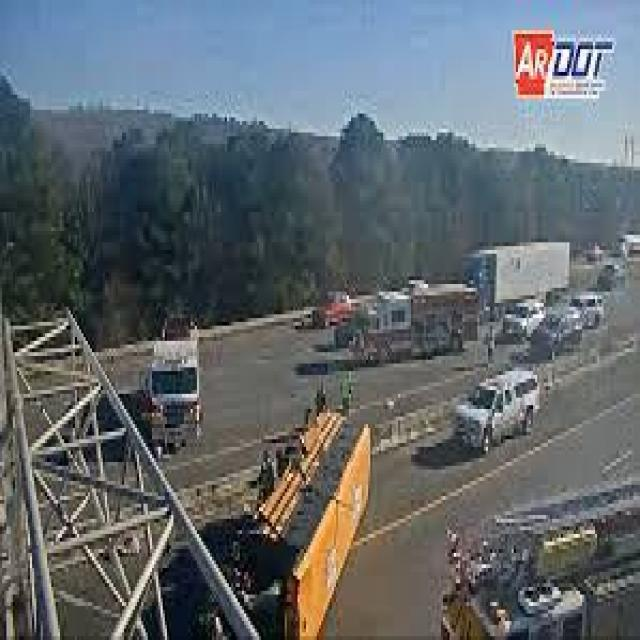accident: (215, 390, 382, 640)
